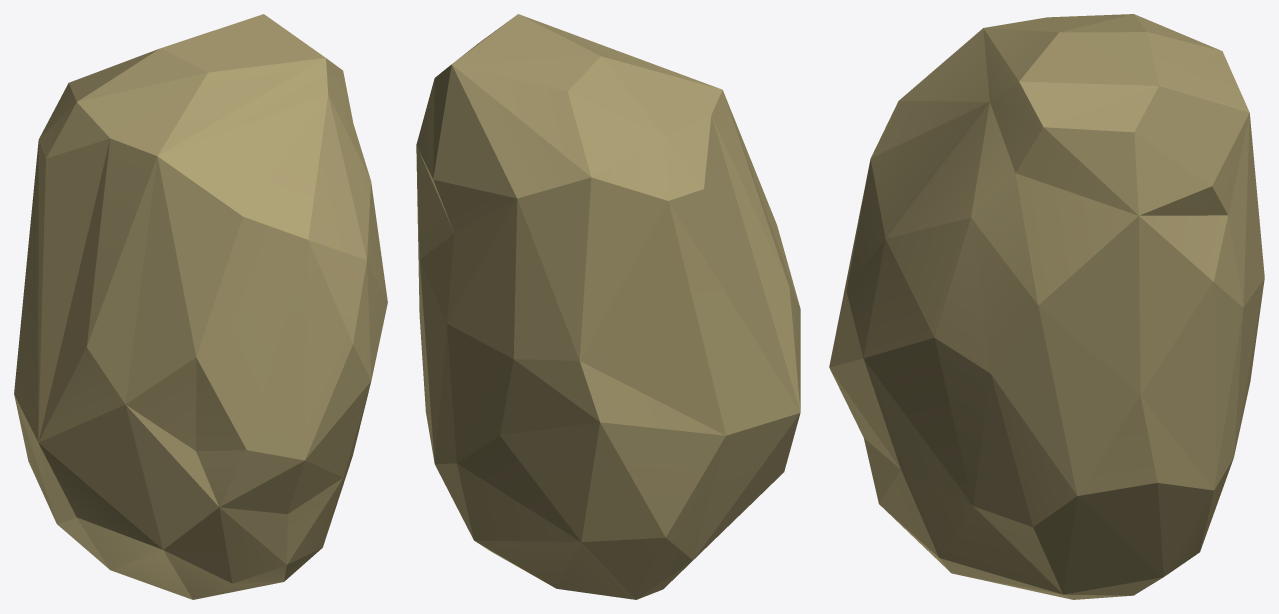
Rendered from SM_small_rock_42.fbx.
3 views of the same model, side by side, from view 1: azimuth 30°, elevation 25°; view 2: azimuth 150°, elevation 25°; view 3: azimuth 270°, elevation 25° (orthographic). The views are drawn at different scales.
Parts seen in each view (by area): view 1: small_rock_42; view 2: small_rock_42; view 3: small_rock_42.
Part boxes in pixels (x1=…): small_rock_42: x1=14, y1=14, x2=387, y2=599; small_rock_42: x1=416, y1=14, x2=800, y2=599; small_rock_42: x1=829, y1=14, x2=1264, y2=599.
Size of the model in its own units: 82.5 by 120 by 84.18.
